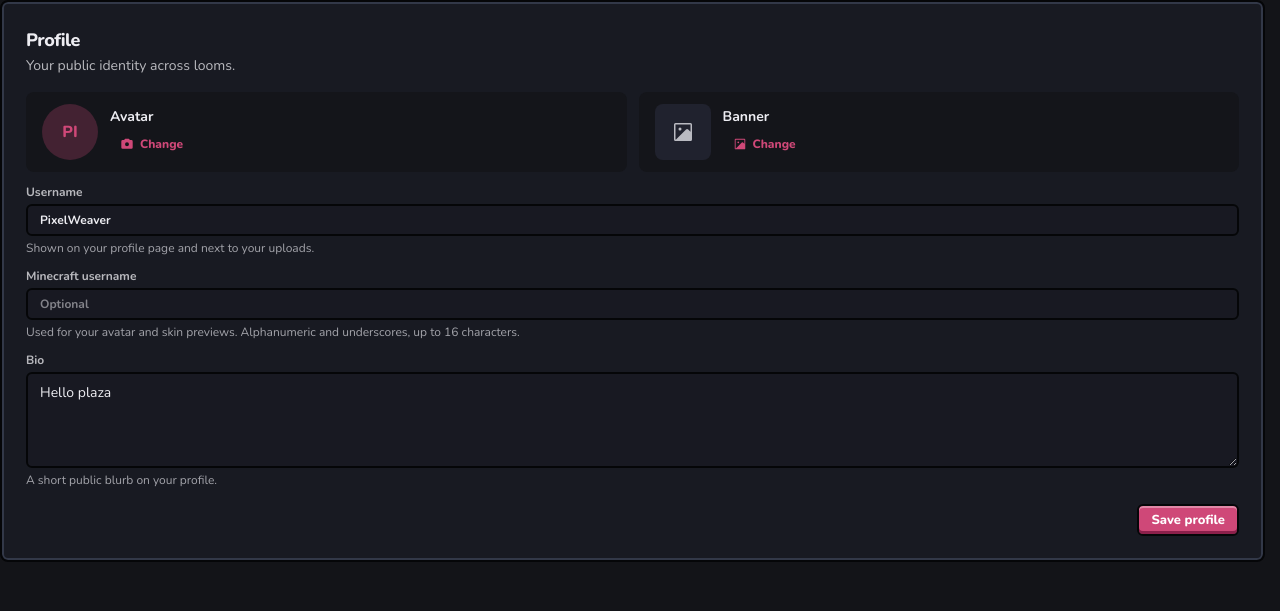
it: ProfileSection › reports nothing to save when nothing changed
Click the button "Save profile" at (1188, 520), box [1137,504,1239,536]
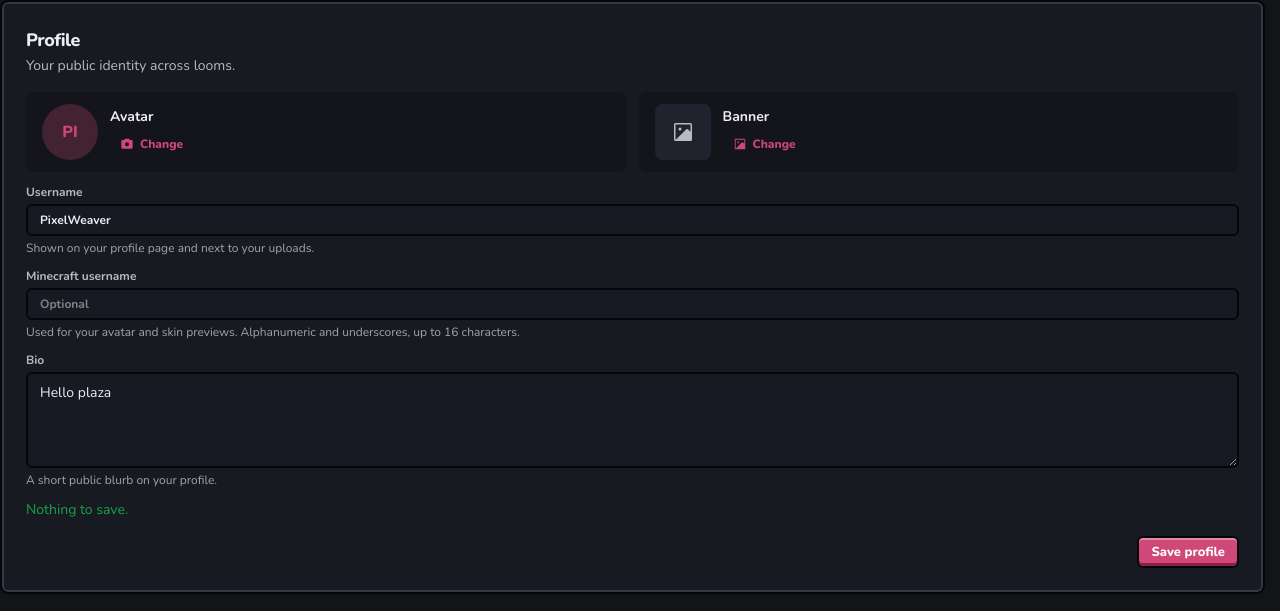
Check: the text "Nothing to save" is shown, box [26,500,128,519]
